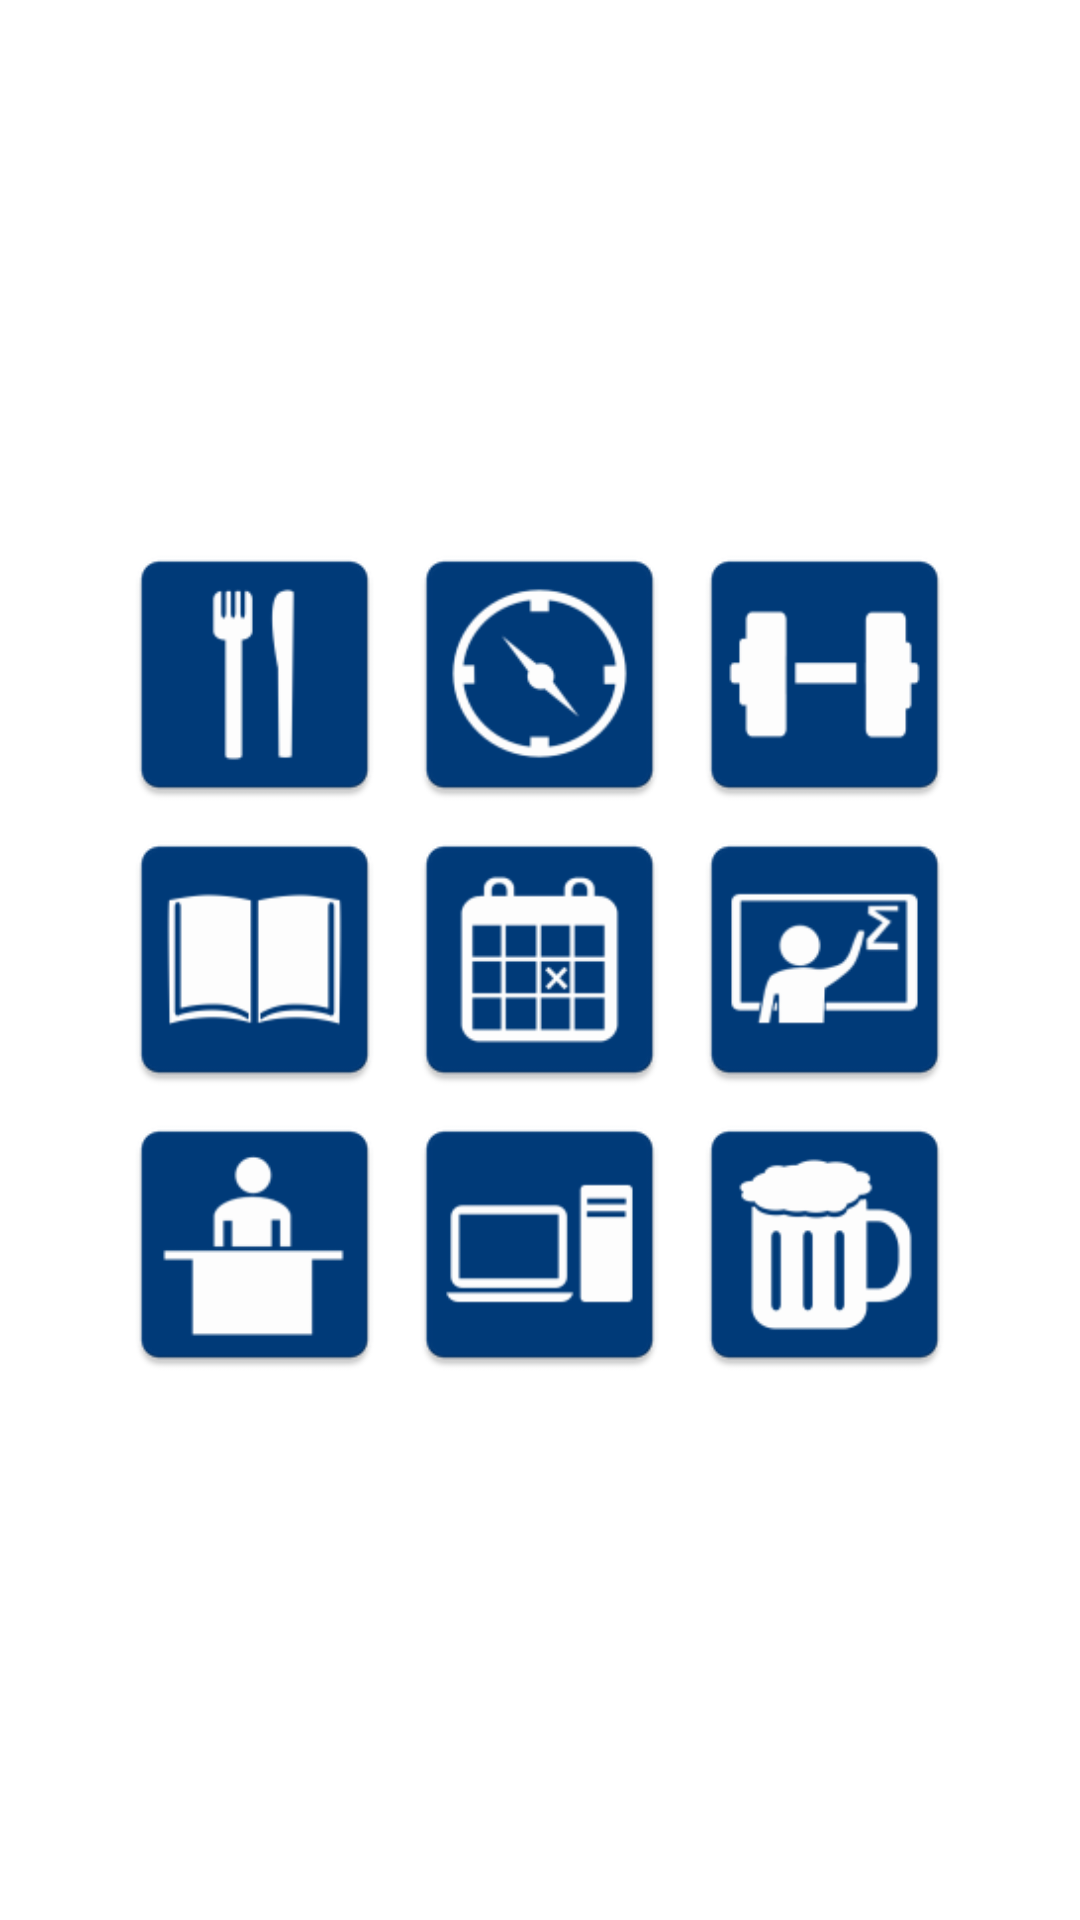

Icons on this 1080*1920 Android screen, each with the point to tap as (x,y):
after school: (825,1247)
data center: (539,1247)
food: (255,677)
holidays: (539,962)
library: (254,962)
maps: (539,677)
offices: (255,1247)
profs: (824,962)
sport: (825,677)
